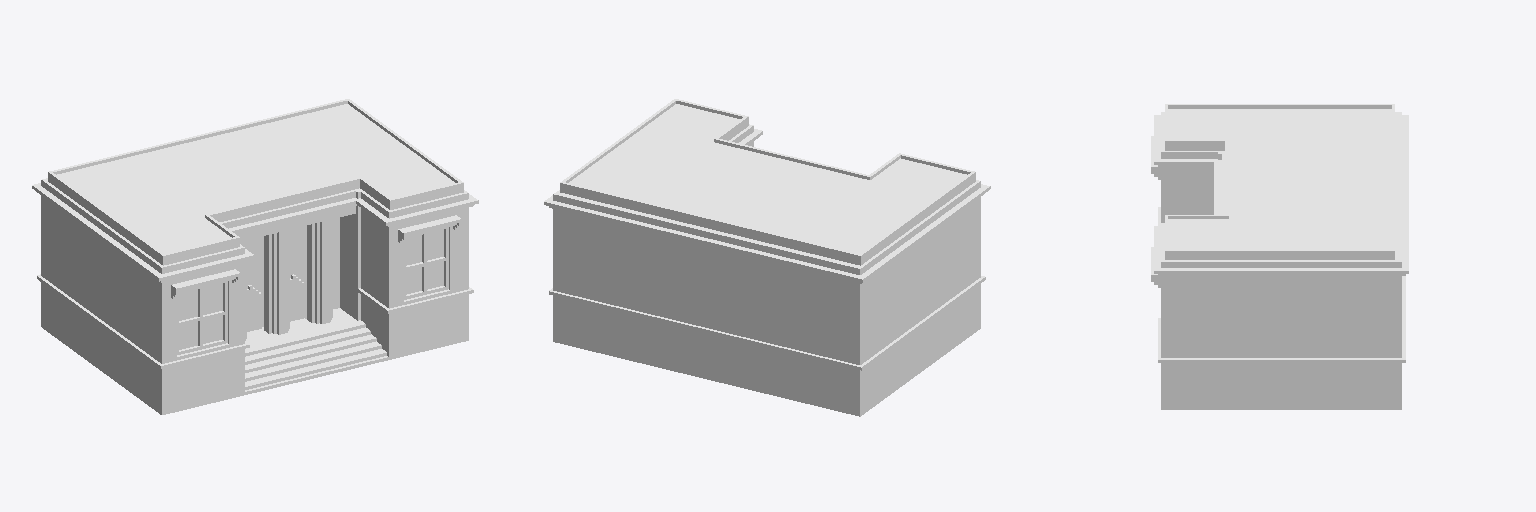
Rendered from Museum.obj.
3 views of the same model, side by side, from view 1: azimuth 30°, elevation 25°; view 2: azimuth 150°, elevation 25°; view 3: azimuth 270°, elevation 25° (orthographic).
Parts seen in each view (by area): view 1: object 1; view 2: object 1; view 3: object 1.
Boxes of the visible parts, x1,y1,x2,y2 form: object 1: [32, 99, 478, 414]; object 1: [544, 99, 990, 416]; object 1: [1151, 104, 1408, 409].
Size of the model in its own units: 10.4 by 4.9 by 7.3.